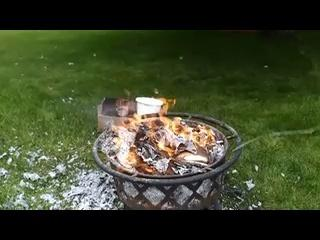Fire: (105, 98, 213, 166)
